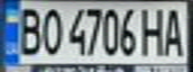0: (103, 4, 121, 56)
4: (63, 4, 87, 56)
6: (118, 5, 142, 57)
7: (81, 4, 106, 56)
A: (157, 5, 190, 57)
B: (12, 3, 45, 56)
H: (139, 5, 169, 57)
O: (36, 4, 66, 56)
